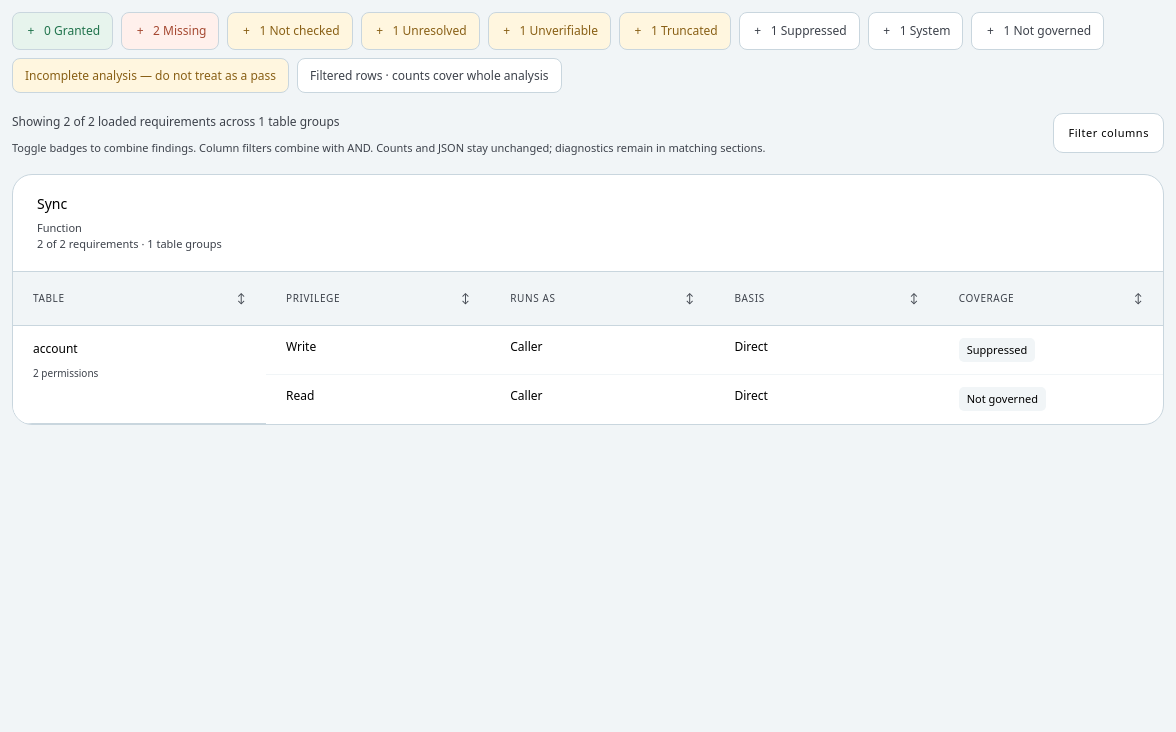
Test case: Interactive report results › can filter a zero-count badge without inventing matches and keeps suppression statuses distinct
This screenshot has width=1176, height=732.
Click the button "+ 0 Granted" at (63, 31), box [12,12,113,50]
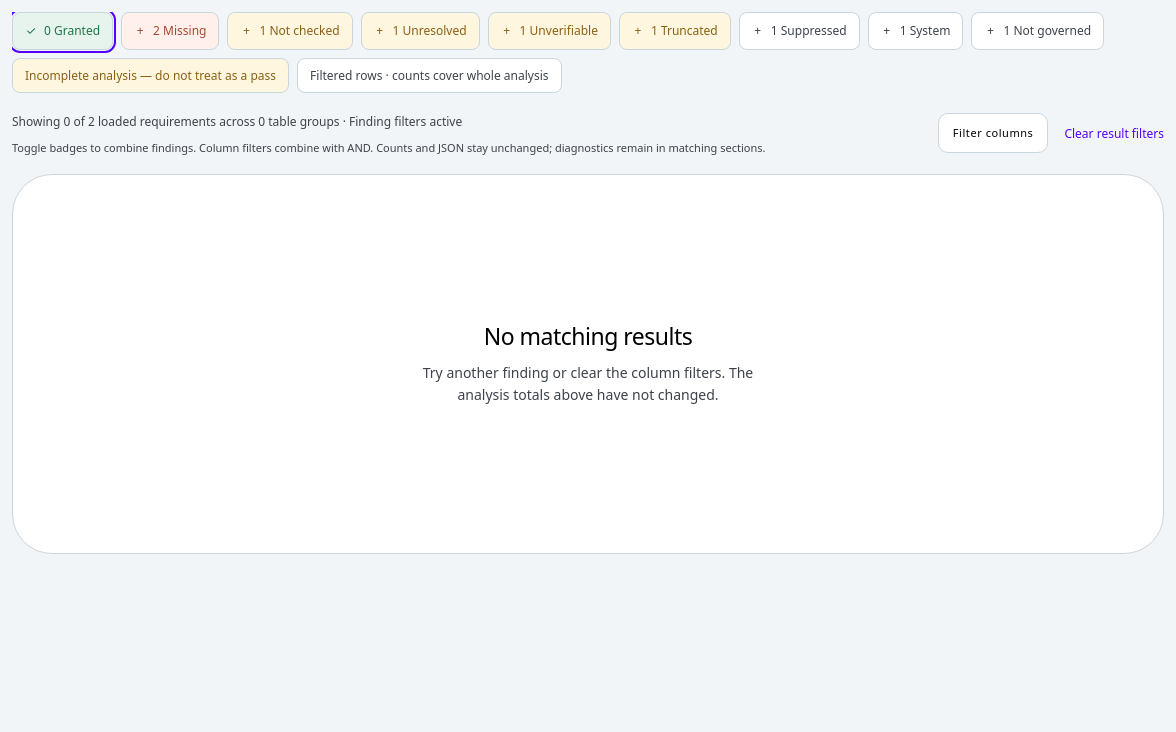
Expected: the heading "No matching results" is shown, [484,322,692,352]
Click the button "Clear result filters" at (1114, 133), box [1064,115,1164,151]
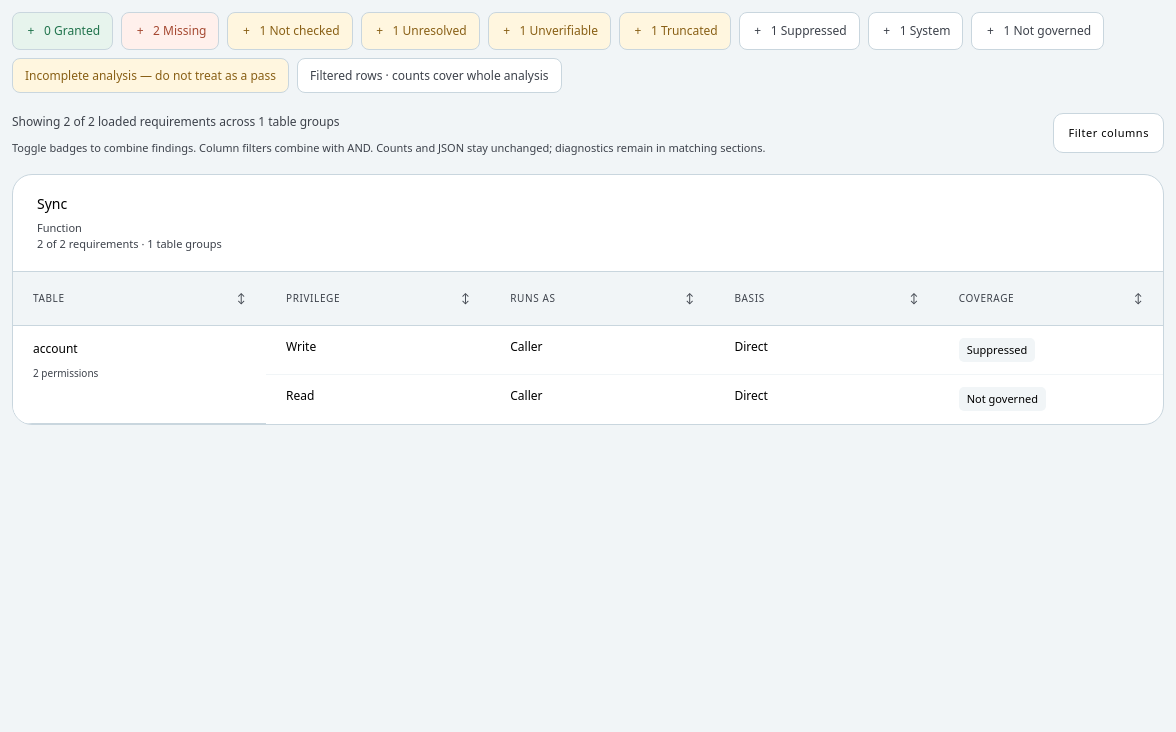
Click the button "+ 1 Suppressed" at (799, 31), box [739,12,860,50]
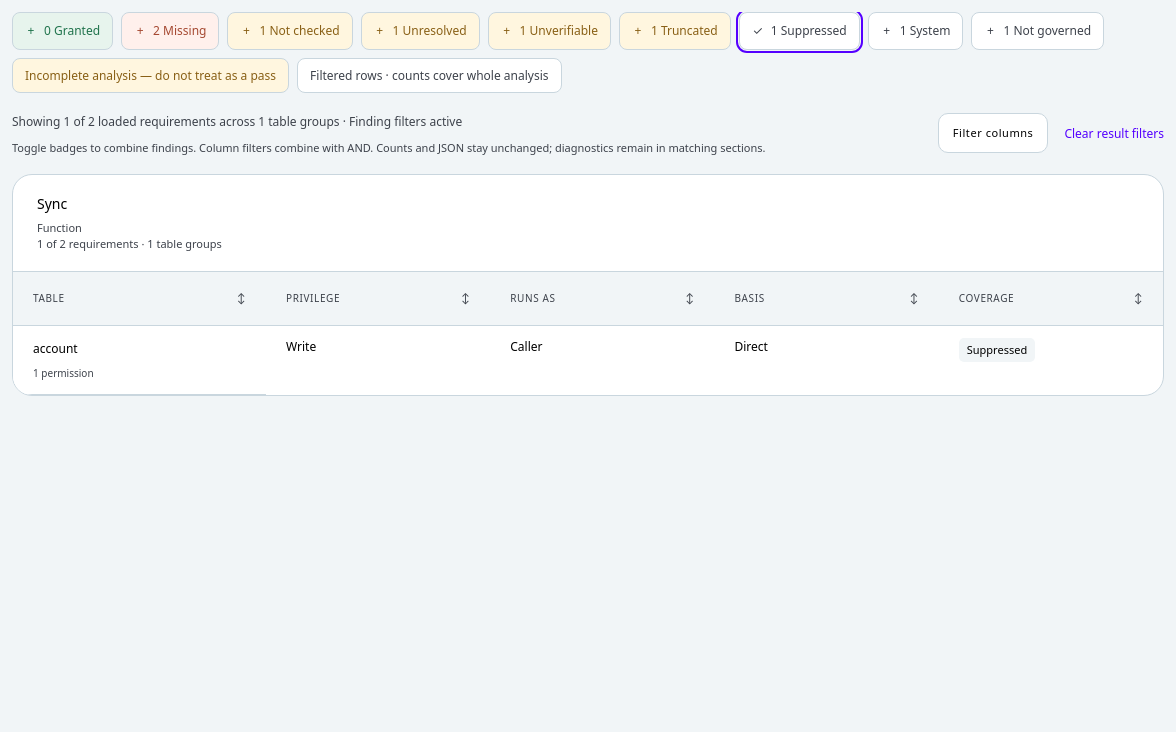
Expected: the text "Suppressed" is shown, [959,338,1035,362]
Expected: the number of list items is 1, [285,337,1035,362]
Click the button "+ 1 Not governed" at (1038, 31), box [971,12,1104,50]
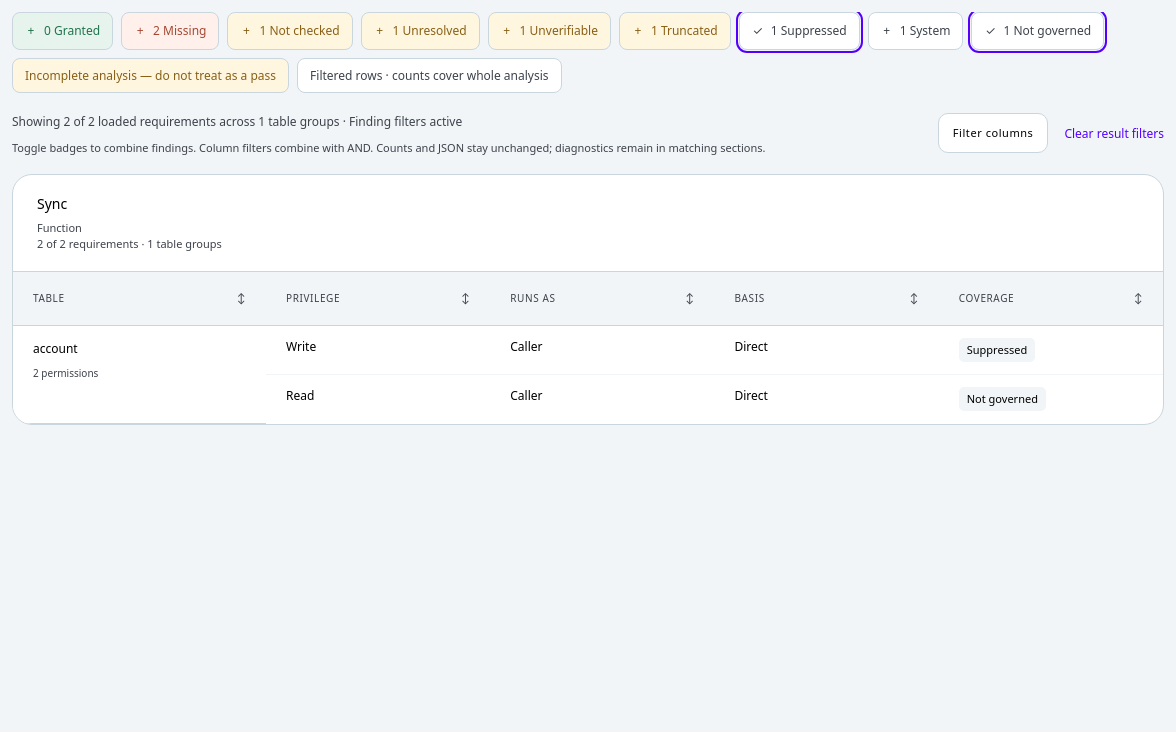
Expected: the number of list items is 2, [285,337,1035,362]; [266,374,1163,423]
